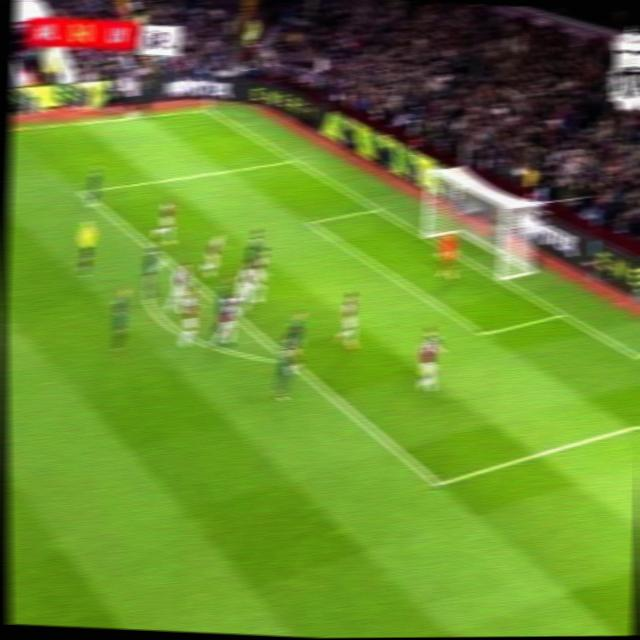bigarea_bottom_inner: (428, 471, 447, 494)
bigarea_top_inner: (73, 183, 88, 197)
bigarea_top_outter: (286, 153, 299, 164)
bottom_arc_area_intersection: (288, 358, 303, 371)
corner: (198, 104, 214, 114)
smallarea_bottom_inner: (474, 321, 493, 344)
smallarea_bottom_outter: (551, 305, 569, 321)
smallarea_top_inner: (302, 214, 319, 230)
smallarea_top_outter: (367, 201, 384, 215)
top_arc_area_intersection: (156, 252, 171, 266)
